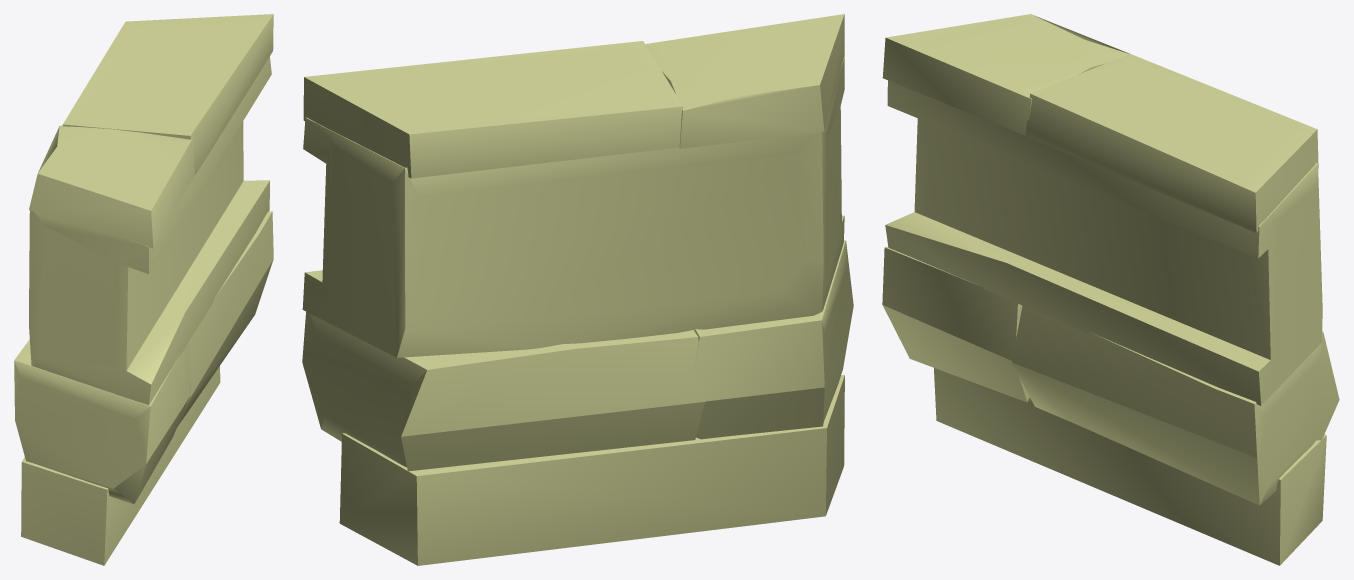
Rendered from Bariere_short_09.fbx.
3 views of the same model, side by side, from view 1: azimuth 30°, elevation 25°; view 2: azimuth 150°, elevation 25°; view 3: azimuth 270°, elevation 25° (orthographic). The views are drawn at different scales.
Parts seen in each view (by area): view 1: Bariere_short_09_LOD1; view 2: Bariere_short_09_LOD1; view 3: Bariere_short_09_LOD1.
Boxes of the visible parts, x1=… form: Bariere_short_09_LOD1: x1=14, y1=14, x2=273, y2=565; Bariere_short_09_LOD1: x1=302, y1=14, x2=853, y2=565; Bariere_short_09_LOD1: x1=882, y1=14, x2=1339, y2=565.
Size of the model in its own units: 151 by 150 by 156.
